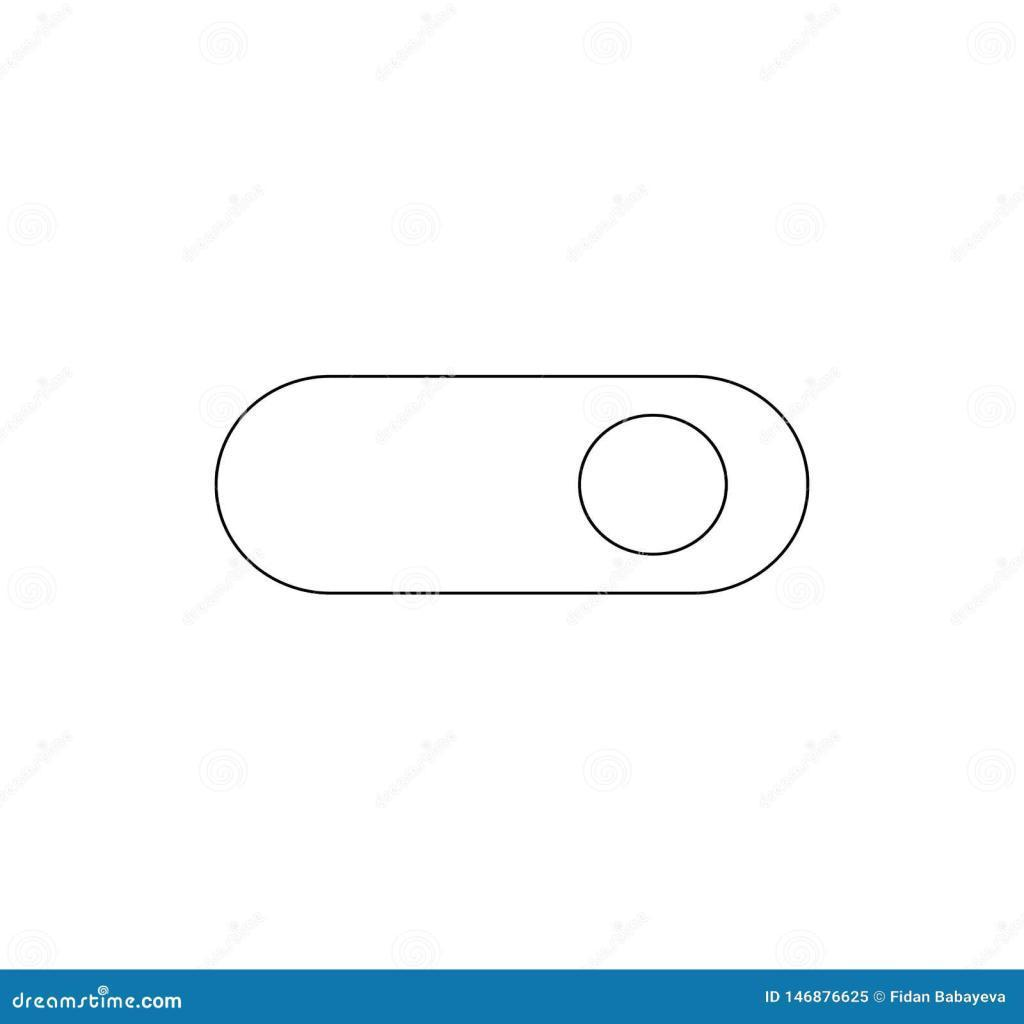switch: (217, 373, 813, 599)
